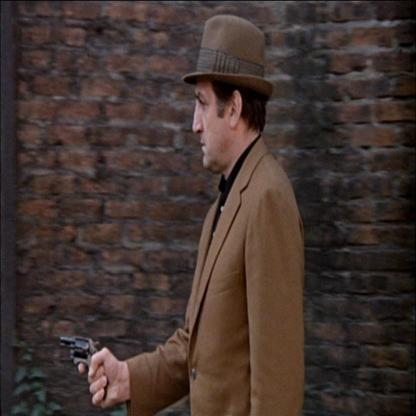gun: (50, 330, 106, 395)
